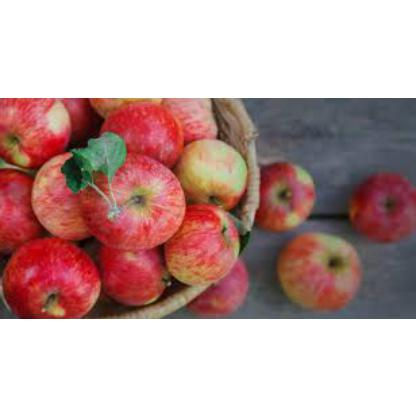apple: (83, 150, 180, 238), (2, 238, 100, 312), (160, 202, 244, 280), (276, 230, 362, 304), (96, 234, 178, 308), (24, 154, 100, 233), (102, 106, 180, 164), (254, 158, 316, 230), (0, 97, 67, 162), (174, 137, 244, 197), (342, 172, 414, 230)
